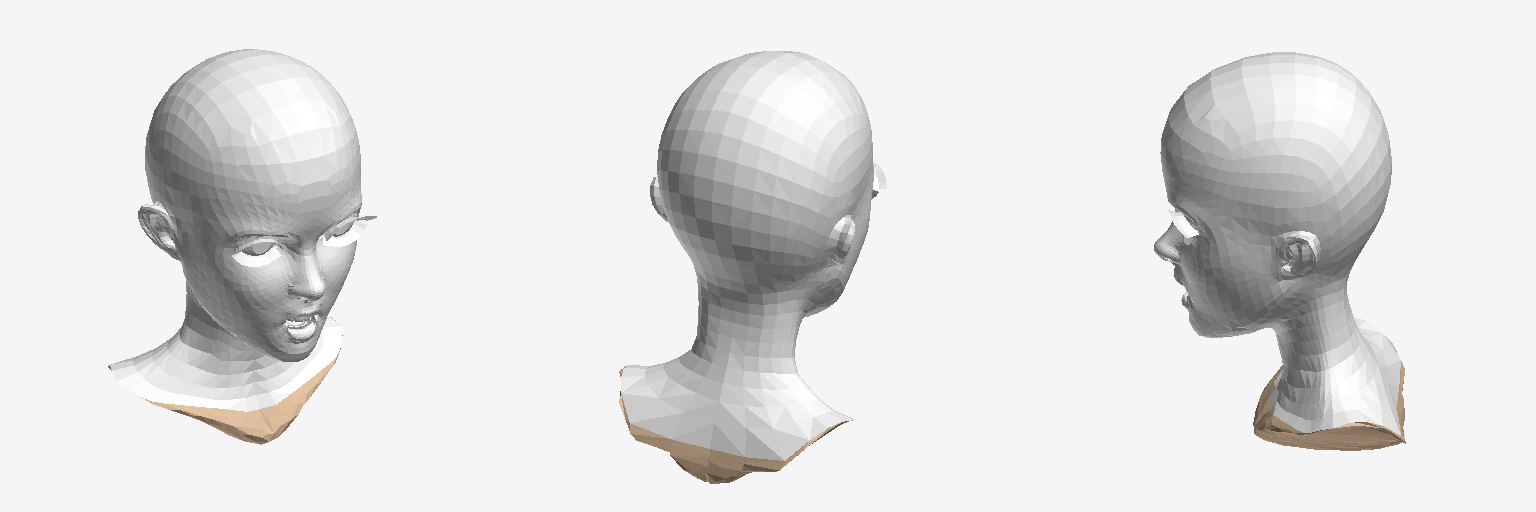
3 renders of one model, left to right at view 1: azimuth 30°, elevation 25°; view 2: azimuth 150°, elevation 25°; view 3: azimuth 270°, elevation 25°, orthographic.
Parts seen in each view (by area): view 1: Body, Eyelashes; view 2: Body; view 3: Body.
Part boxes in pixels (x1,y1,x2,y2): Body: (110, 49, 361, 411); Eyelashes: (230, 216, 376, 266); Body: (621, 51, 873, 460); Body: (1154, 52, 1400, 434).
Size of the model in its own units: 23 by 37.41 by 22.09.